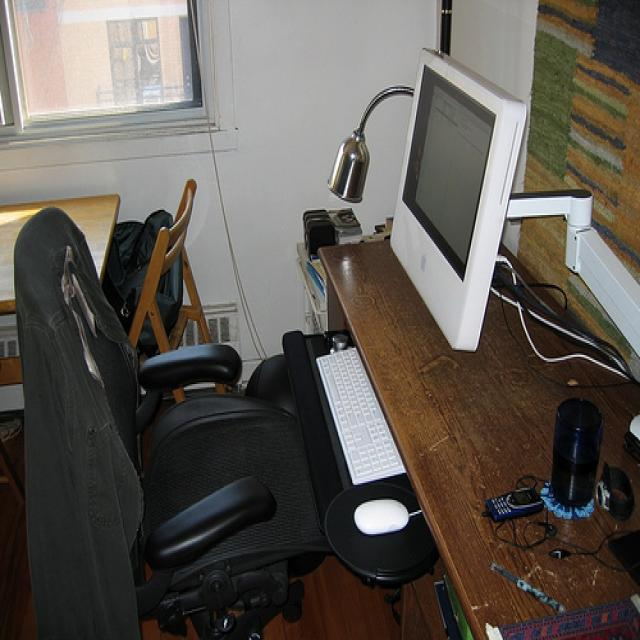chair: (11, 206, 331, 640), (129, 179, 226, 403)
dining table: (0, 196, 122, 315)
